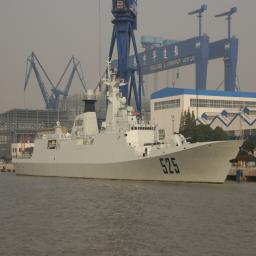Fragata: (13, 53, 251, 185)
